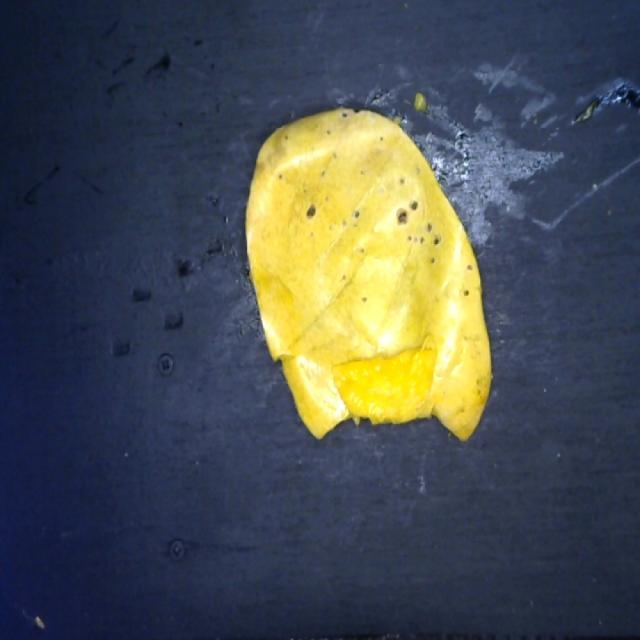biodegradable: (243, 104, 498, 451)
